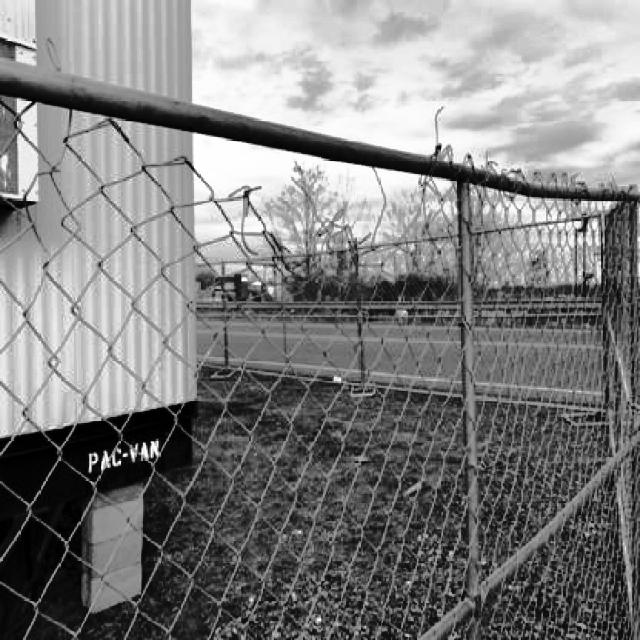anomaly-fence: (0, 55, 634, 262)
fences: (3, 286, 625, 640)
